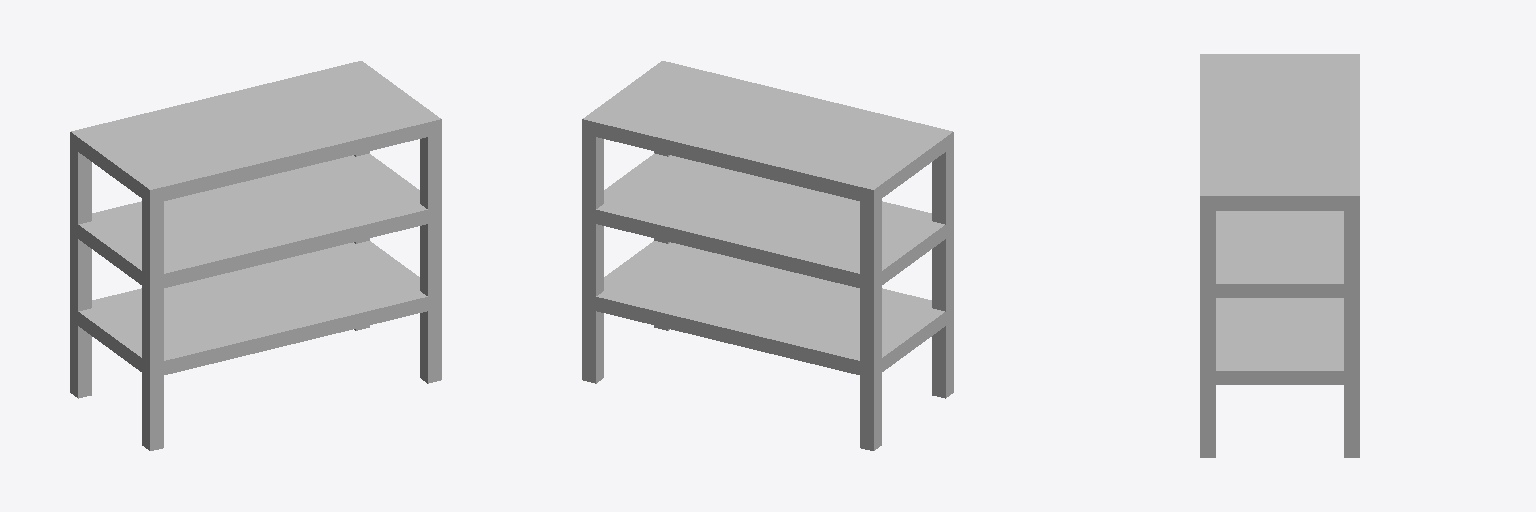
File: shelf.obj
The picture shows the model from 3 angles: view 1: azimuth 30°, elevation 25°; view 2: azimuth 150°, elevation 25°; view 3: azimuth 270°, elevation 25°; orthographic projection.
Parts seen in each view (by area): view 1: object 1; view 2: object 1; view 3: object 1.
Boxes of the visible parts, box(x1,y1,x2,y2) form: object 1: box(70, 61, 441, 450); object 1: box(582, 61, 953, 450); object 1: box(1200, 54, 1359, 457).
Size of the model in its own units: 2.1 by 1.8 by 1.